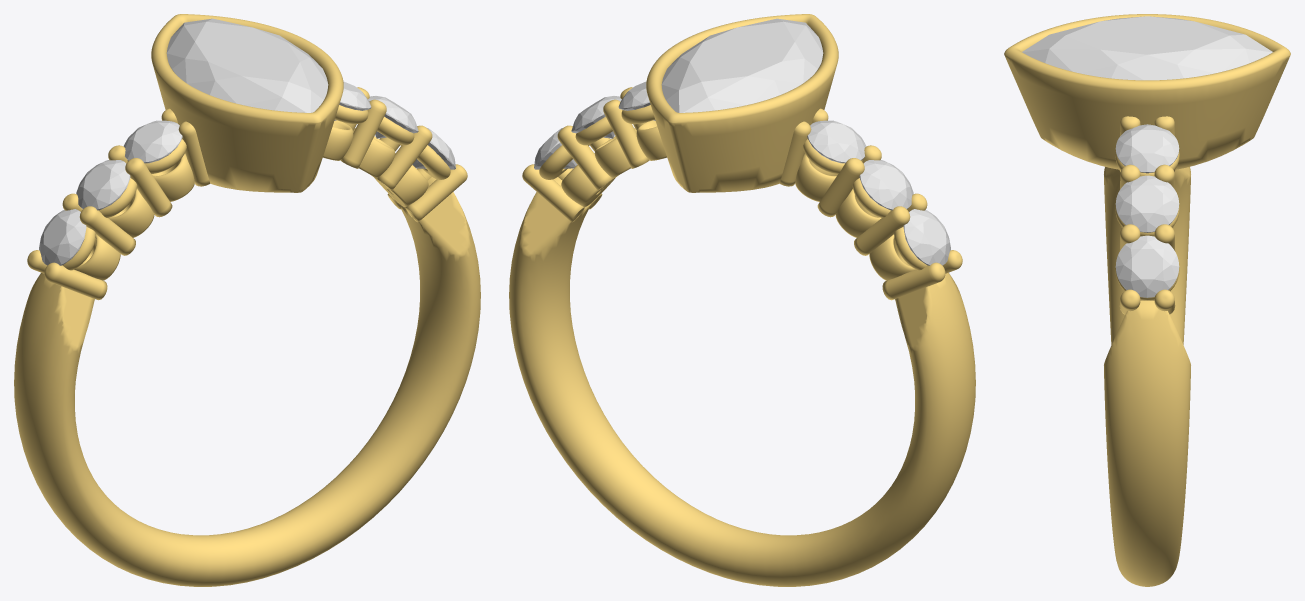
The model's file is diamond-marquise-yellowgold-bezelset-taperedband-7stone.glb.
The picture shows the model from 3 angles, left to right: view 1: azimuth 30°, elevation 25°; view 2: azimuth 150°, elevation 25°; view 3: azimuth 270°, elevation 25°; orthographic projection.
Parts seen in each view (by area): view 1: metal.002, stone.001, dia.002, dia.015, dia.016, dia.018, dia.019; view 2: metal.002, stone.001, dia.002, dia.015, dia.016, dia.018, dia.019; view 3: metal.002, stone.001, dia.017, dia.018, dia.019.
Part boxes in pixels (x1,y1,x2,y2): metal.002: (14,14,480,586); stone.001: (166,18,328,112); dia.002: (39,209,86,265); dia.015: (76,160,130,210); dia.016: (123,120,182,163); dia.018: (368,96,418,138); dia.019: (334,81,371,120); metal.002: (509,14,975,586); stone.001: (661,18,823,112); dia.002: (903,209,950,265); dia.015: (859,160,913,210); dia.016: (807,120,866,163); dia.018: (571,96,621,138); dia.019: (618,81,655,120); metal.002: (1004,14,1290,586); stone.001: (1022,16,1272,80); dia.017: (1115,235,1179,297); dia.018: (1115,175,1179,232); dia.019: (1115,124,1179,173).
Size of the model in its own units: 20.5 by 22.92 by 11.31.
